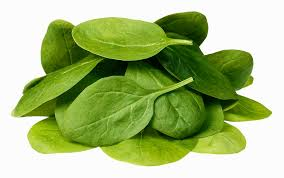spinach: (37, 21, 243, 161)
